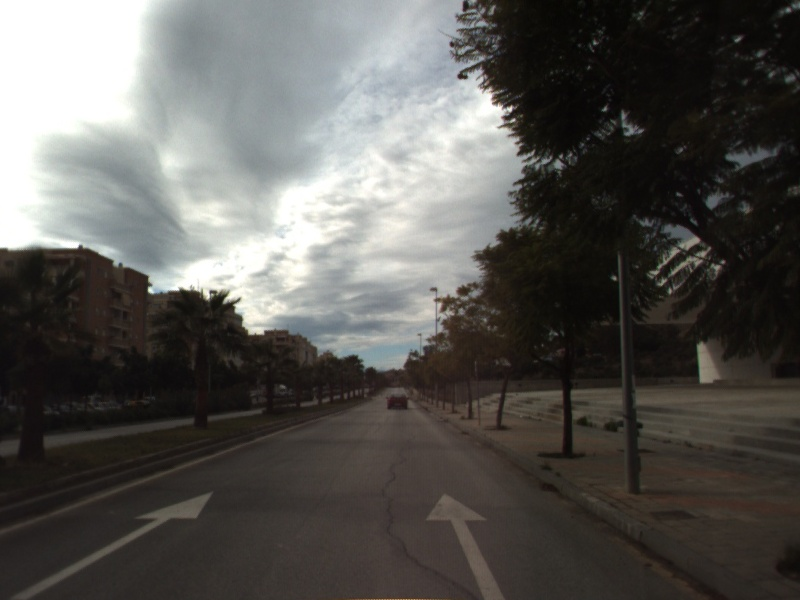STRAIGHT: (6, 488, 217, 600), (422, 490, 508, 600)
